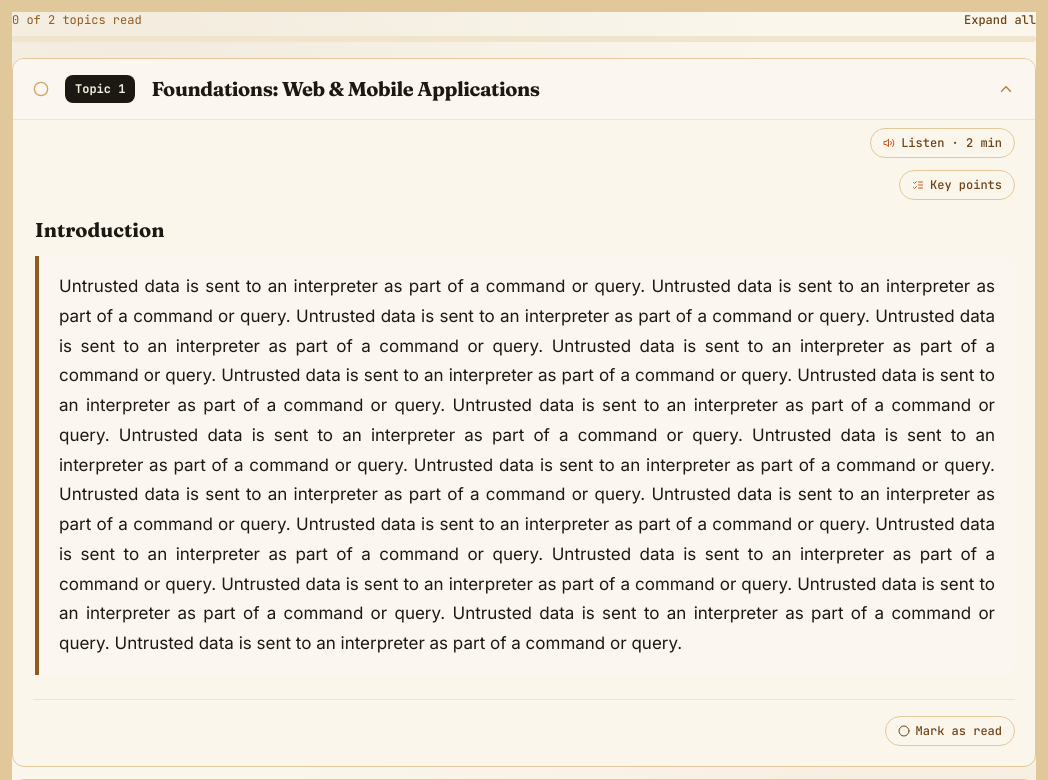
read-along strip › leaves no strip behind once the player is closed
Click the button "Listen · 2 min" at (943, 143), box [870,128,1015,158]
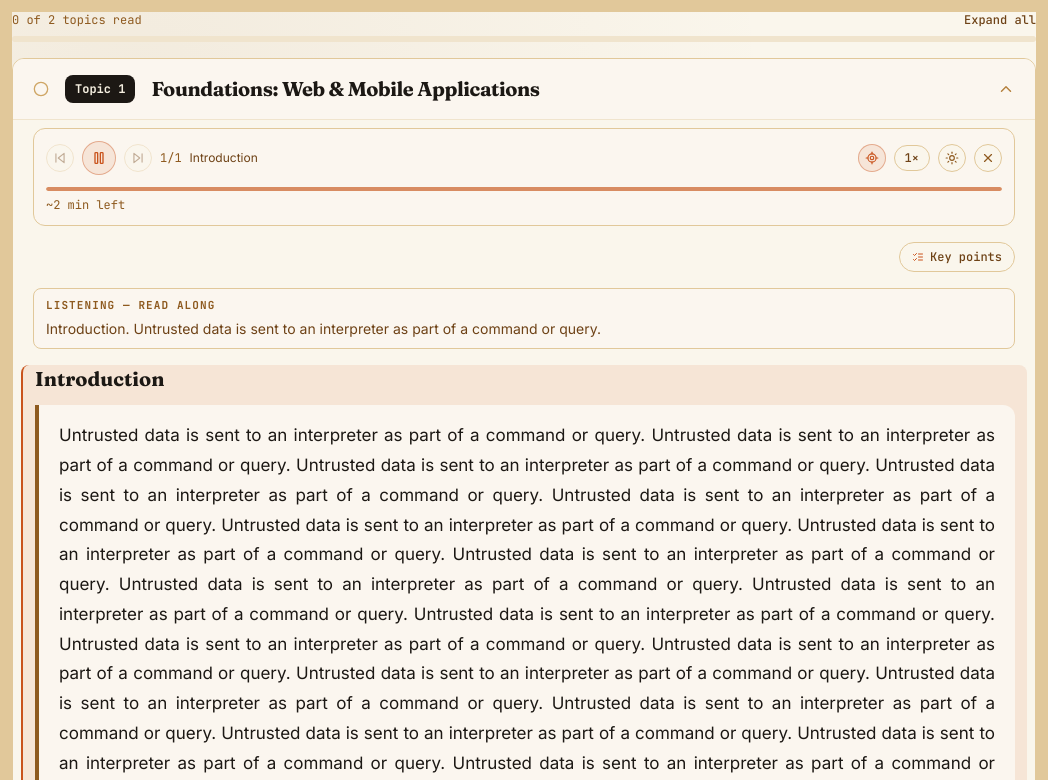
Check: the element that starts with "Listening — read along" is shown, box [33,288,1015,349]
Click the button named "Stop and close" at (988, 158), box [974,144,1002,172]
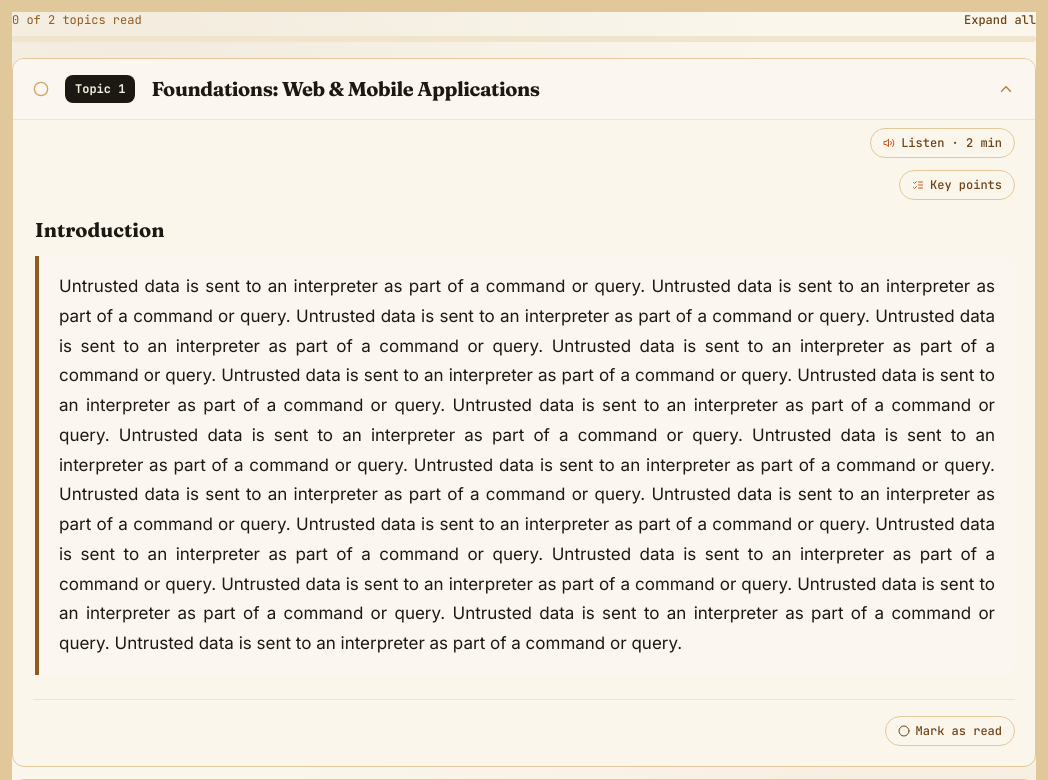
Check: the button "Listen · 2 min" is shown, box [870,128,1015,158]
